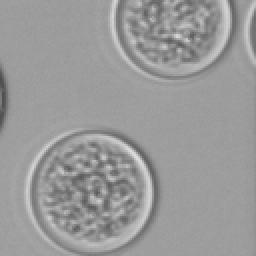picoshell: (24, 130, 156, 254), (110, 0, 230, 78), (244, 0, 254, 64), (0, 68, 4, 126)
